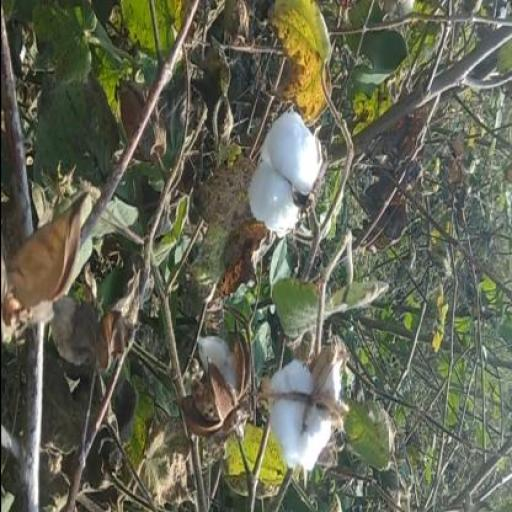cotton_ready: (254, 328, 355, 471), (243, 96, 332, 256)
